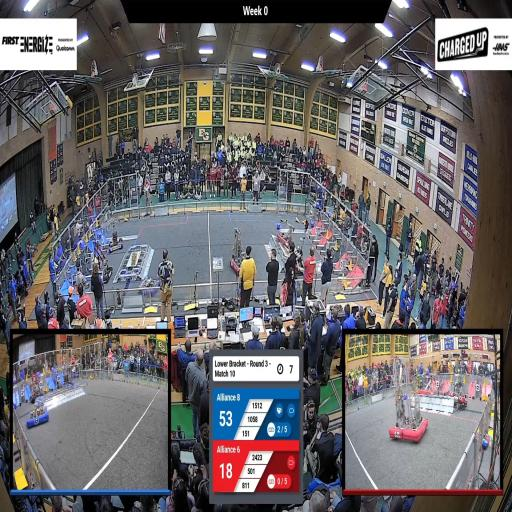robot: (227, 224, 252, 278), (91, 246, 113, 286), (290, 240, 310, 278), (105, 219, 125, 255), (137, 271, 162, 298), (276, 218, 296, 248)
